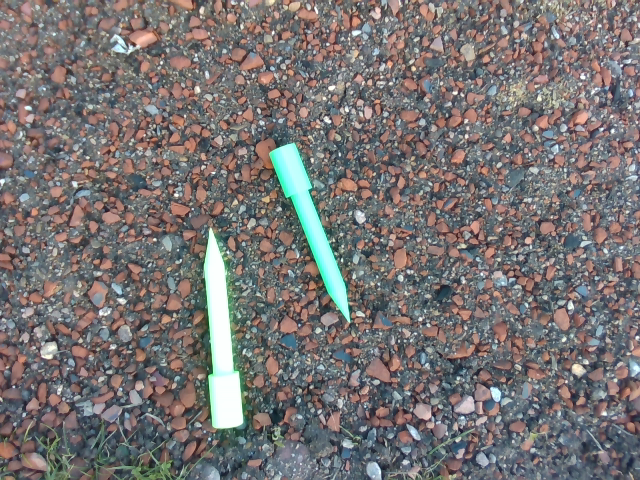Probe: (264, 137, 354, 327), (195, 220, 251, 436)
